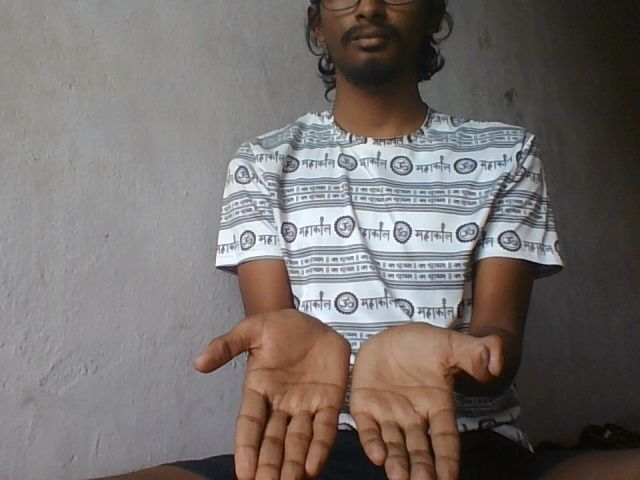Help: (177, 302, 510, 480)
